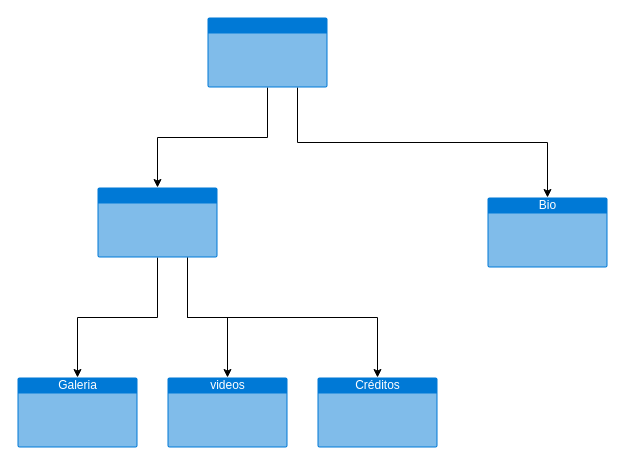
Image size: 624x464. Some labels were removed from this diagram. Each missing label, with the centre of its shape:
adgart: (x=267, y=52)
Menu: (x=157, y=222)
